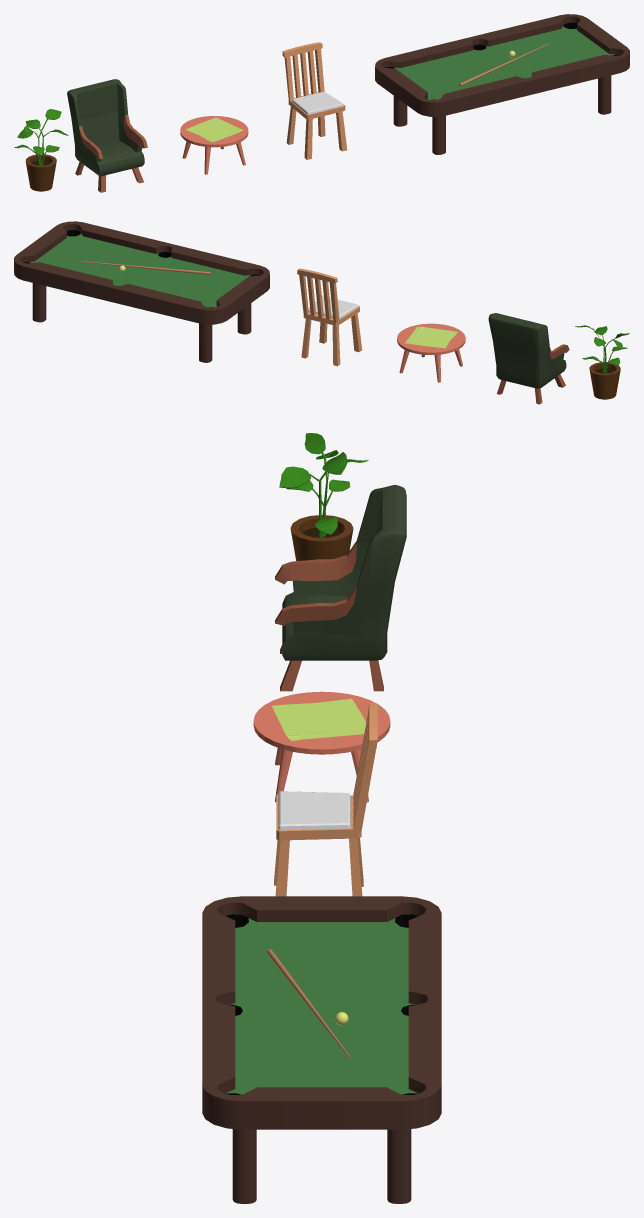
The model's file is casino_furniture_vol1.fbx.
3 views of the same model, one above another, from view 1: azimuth 30°, elevation 25°; view 2: azimuth 150°, elevation 25°; view 3: azimuth 270°, elevation 25° (orthographic). The views are drawn at different scales.
Visible parts, largest first — view 1: PoolTable, Armchair, Chair, PlantPot, Table, TableRug; view 2: PoolTable, Armchair, Chair, PlantPot, Table, TableRug, PoolStick; view 3: PoolTable, Armchair, Chair, PlantPot, Table, TableRug.
Part boxes in pixels (x1=…): PoolTable: x1=375, y1=14, x2=629, y2=154; Armchair: x1=67, y1=79, x2=147, y2=192; Chair: x1=282, y1=42, x2=347, y2=159; PlantPot: x1=14, y1=109, x2=68, y2=191; Table: x1=180, y1=116, x2=248, y2=174; TableRug: x1=185, y1=117, x2=243, y2=142; PoolTable: x1=14, y1=221, x2=269, y2=362; Armchair: x1=488, y1=313, x2=569, y2=404; Chair: x1=297, y1=268, x2=362, y2=366; PlantPot: x1=575, y1=325, x2=629, y2=399; Table: x1=397, y1=323, x2=465, y2=382; TableRug: x1=405, y1=326, x2=457, y2=348; PoolStick: x1=81, y1=261, x2=211, y2=274; PoolTable: x1=202, y1=896, x2=441, y2=1203; Armchair: x1=275, y1=485, x2=406, y2=691; Chair: x1=274, y1=703, x2=377, y2=896; PlantPot: x1=279, y1=433, x2=368, y2=561; Table: x1=253, y1=691, x2=390, y2=802; TableRug: x1=272, y1=698, x2=366, y2=740.
Bounding box in the file's own units: 3424 × 640 × 604.
